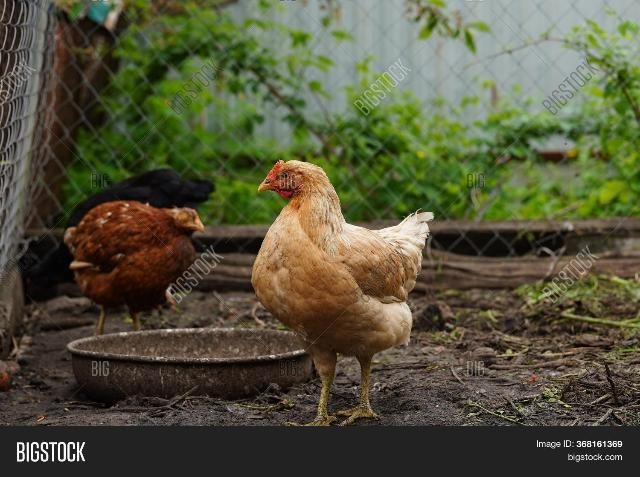Chicken: (251, 158, 435, 426), (64, 198, 206, 335)
